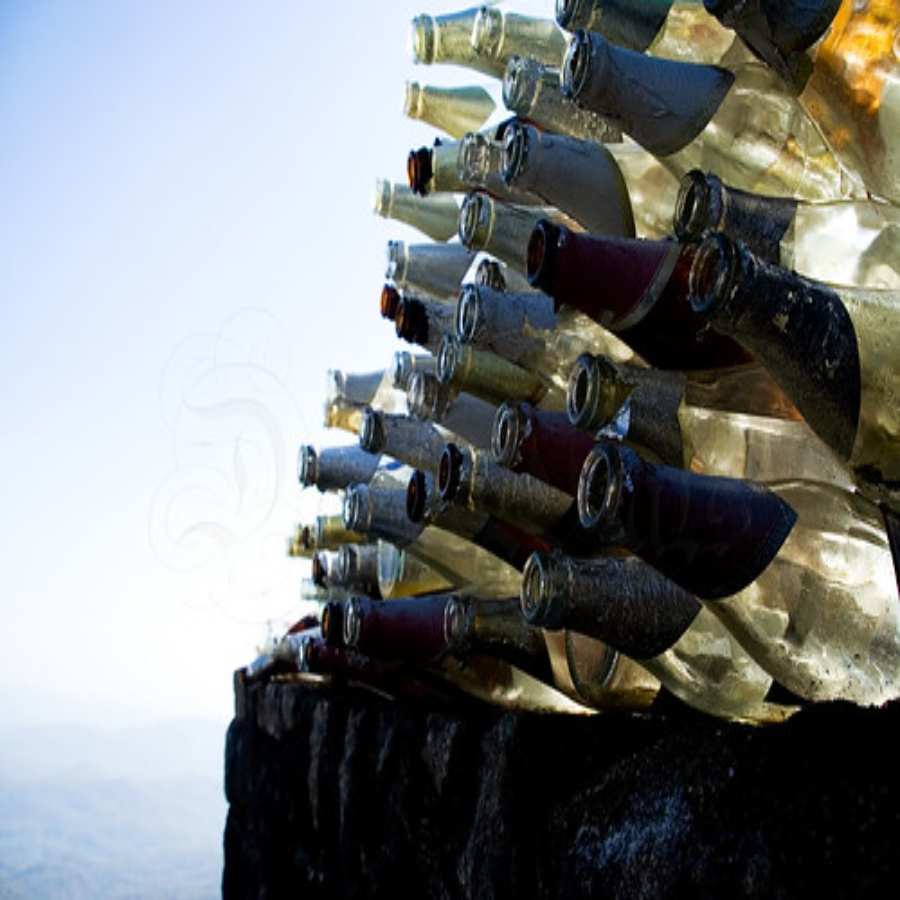beer: (563, 478, 900, 649), (511, 209, 816, 364), (324, 583, 572, 676)
